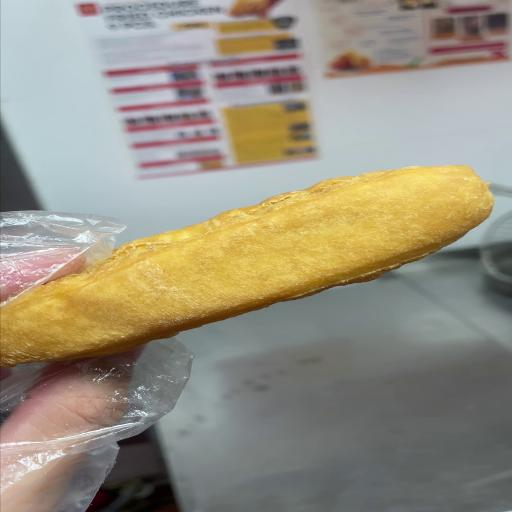brand_golden_good: (0, 165, 493, 365)
